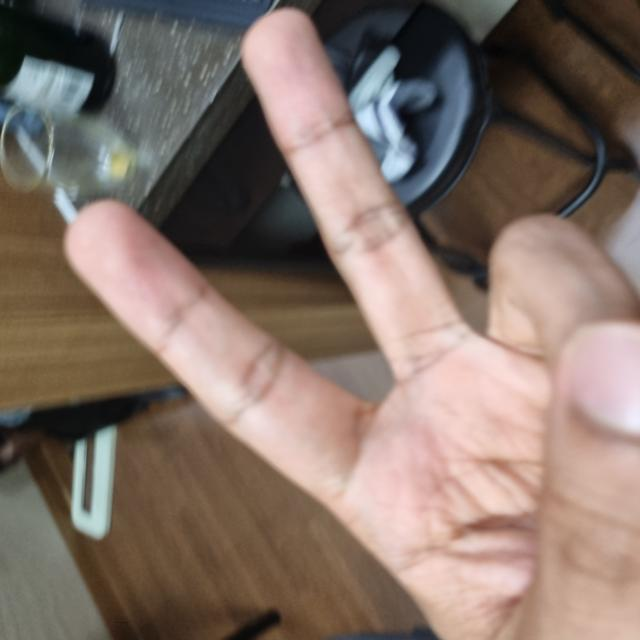Scissors: (0, 69, 636, 638)
